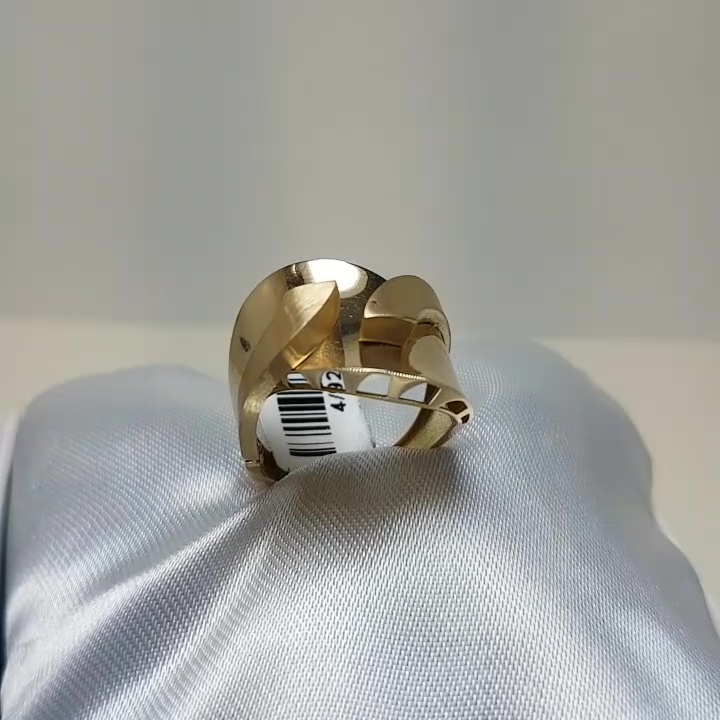Ring 4: (200, 247, 505, 510)
